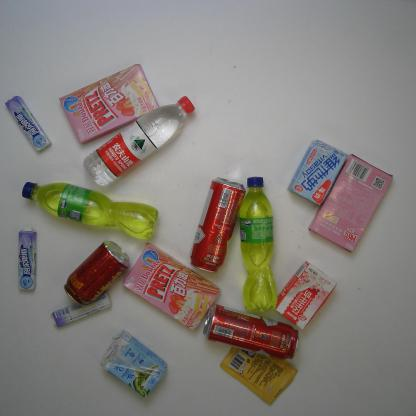Alcohol: (186, 172, 249, 276), (199, 302, 301, 366)
Candy: (3, 95, 54, 154), (47, 287, 115, 331), (13, 224, 38, 294)
Dessert: (120, 240, 222, 334), (309, 153, 398, 255), (59, 62, 162, 148)
Drink: (80, 91, 197, 188), (19, 178, 159, 244), (236, 175, 281, 317), (60, 236, 134, 309)
Milk: (269, 259, 339, 333), (100, 328, 168, 400), (286, 137, 349, 209)
Seasoner: (215, 334, 301, 408)
